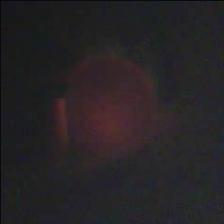fertile: (60, 46, 160, 164)
